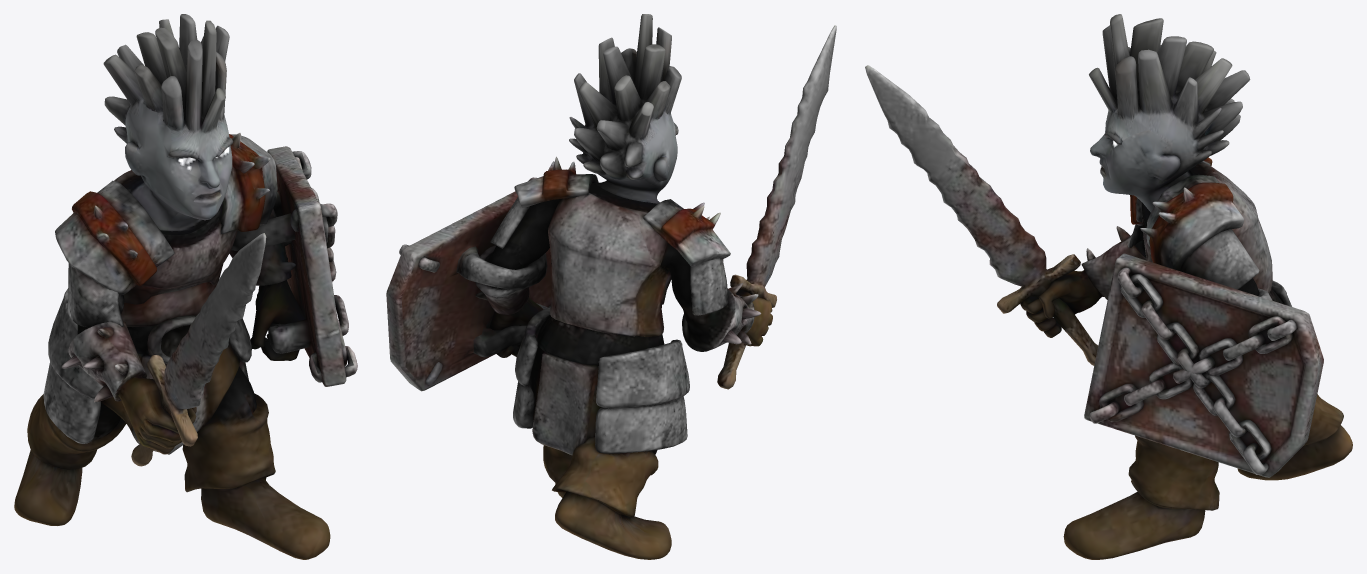
File: MZ4250 - DuergarStoneGuard.glb
The picture shows the model from 3 angles, left to right: view 1: azimuth 30°, elevation 25°; view 2: azimuth 150°, elevation 25°; view 3: azimuth 270°, elevation 25°; orthographic projection. The views are drawn at different scales.
Parts seen in each view (by area): view 1: Duergar Stone Guard.001; view 2: Duergar Stone Guard.001; view 3: Duergar Stone Guard.001.
Part boxes in pixels (<box>): Duergar Stone Guard.001: <box>14,14,357,559</box>; Duergar Stone Guard.001: <box>386,14,836,559</box>; Duergar Stone Guard.001: <box>865,14,1352,559</box>.
Size of the model in its own units: 17.63 by 27.7 by 24.49.
1 material, 1 textured.
